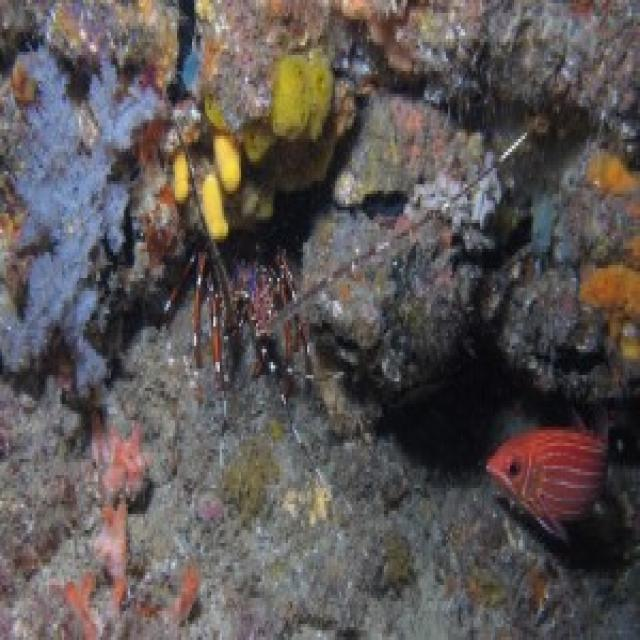lobsters: (144, 196, 351, 409)
